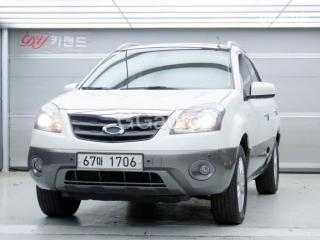0: (122, 156, 130, 167)
1: (109, 155, 114, 167)
6: (82, 155, 89, 167), (130, 156, 137, 168)
7: (89, 155, 96, 168), (115, 156, 122, 167)
마: (96, 156, 105, 167)
